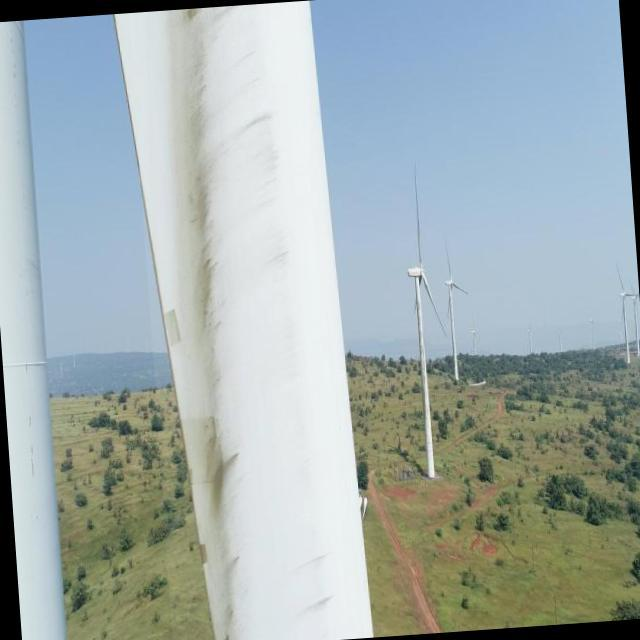Dirt: (172, 1, 341, 640)
